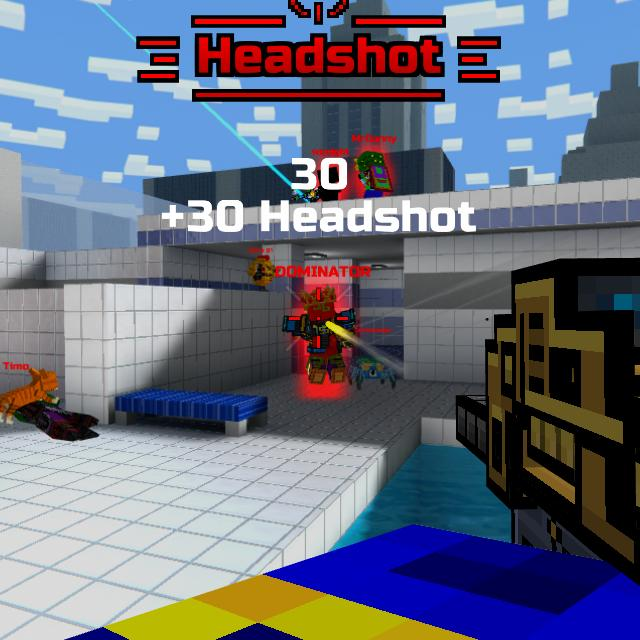Enemy: (288, 286, 358, 386), (354, 150, 389, 197)
